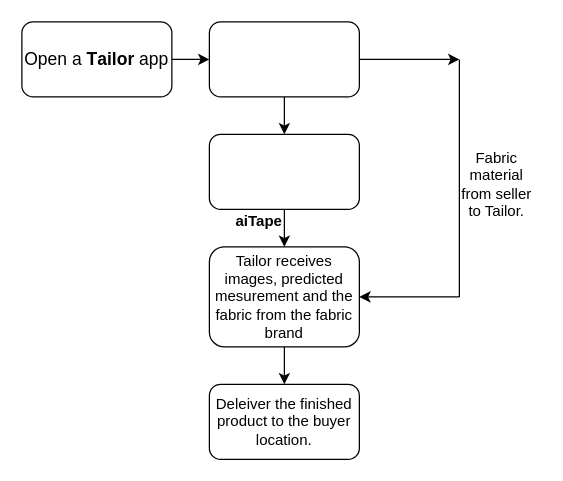
This 563x481 diagram has some shape labels left out. Here are the shapes that lost their labels. From the top down, the centre of each, then its label:
the point at 283,59: Pick a fabric, tailor and place an order
the point at 283,171: Upload an image (Front, side and rear)
